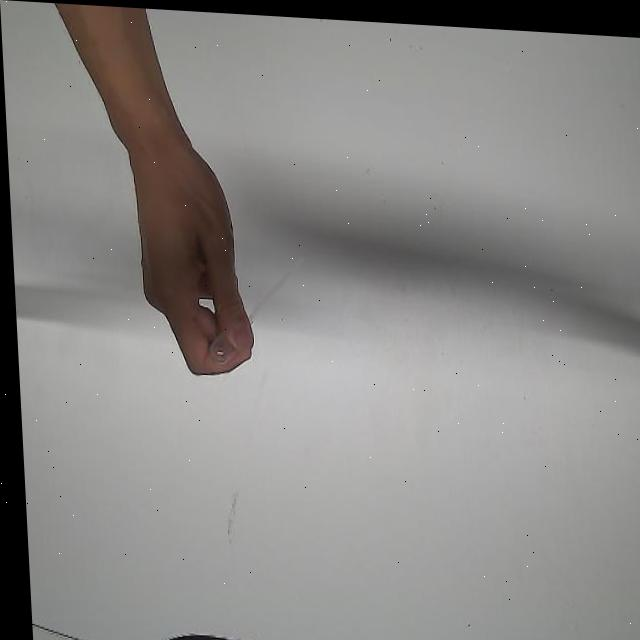Disposable Pasteur Pipette - Sealed: (198, 241, 313, 370)
